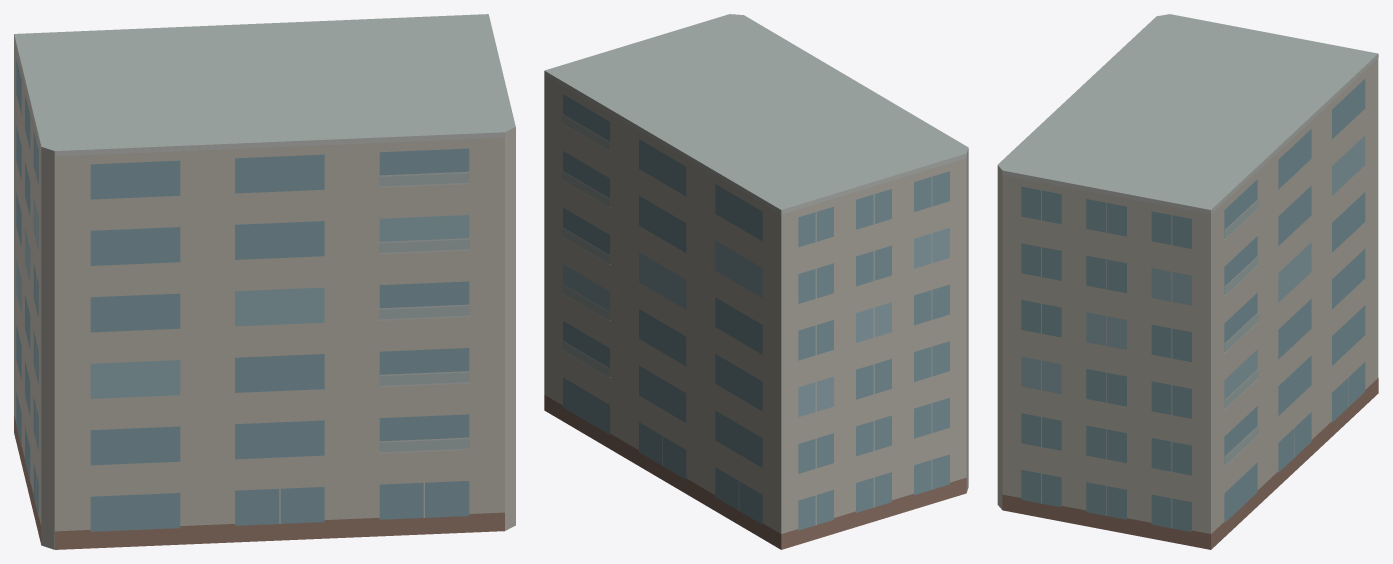
Rendered from survey-upis-32517684.glb.
The picture shows the model from 3 angles, left to right: view 1: azimuth 30°, elevation 25°; view 2: azimuth 150°, elevation 25°; view 3: azimuth 270°, elevation 25°; orthographic projection. The views are drawn at different scales.
Visible parts, largest first — view 1: survey-upis-32517684.tmp; view 2: survey-upis-32517684.tmp; view 3: survey-upis-32517684.tmp.
Boxes of the visible parts, x1,y1,x2,y2 form: survey-upis-32517684.tmp: (14, 14, 515, 549); survey-upis-32517684.tmp: (544, 14, 968, 549); survey-upis-32517684.tmp: (997, 14, 1378, 549).
Bounding box in the file's own units: 22.65 × 18.3 × 18.6.
